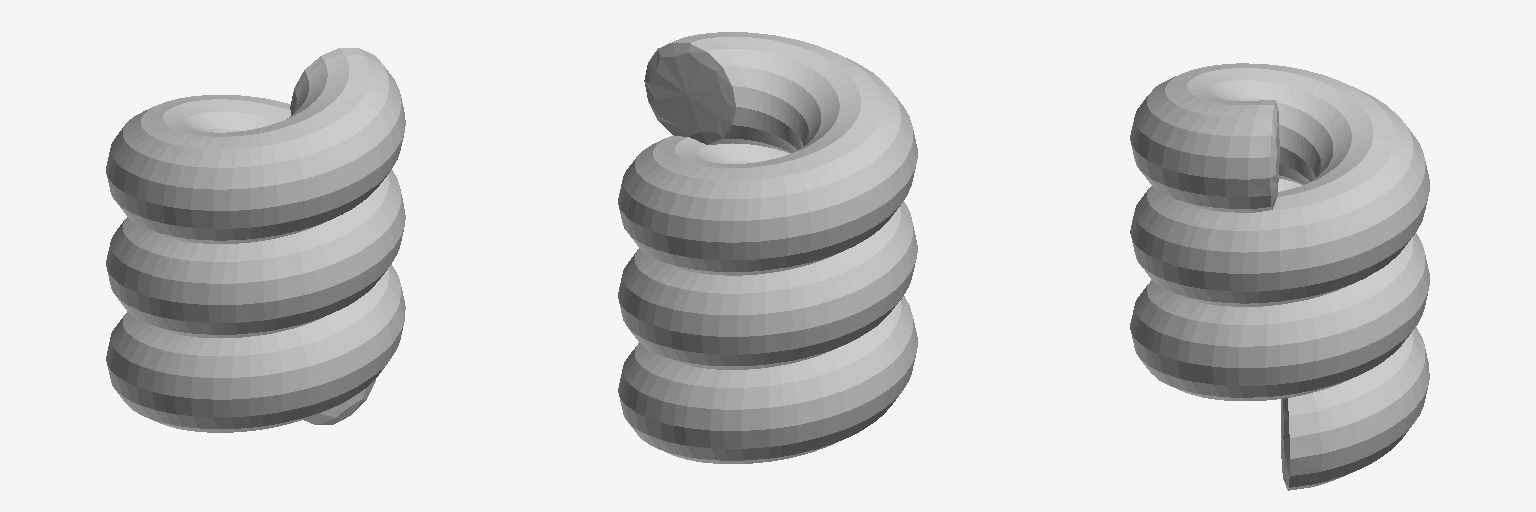
The model's file is helix_87.5.obj.
The picture shows the model from 3 angles: view 1: azimuth 30°, elevation 25°; view 2: azimuth 150°, elevation 25°; view 3: azimuth 270°, elevation 25°; orthographic projection.
Visible parts, largest first — view 1: helix:pHelix1; view 2: helix:pHelix1; view 3: helix:pHelix1.
Part boxes in pixels (x1,y1,x2,y2): helix:pHelix1: (106,48,405,432); helix:pHelix1: (618,32,917,463); helix:pHelix1: (1130,63,1429,490).
Bounding box in the file's own units: 1.92 × 2.7 × 1.92.